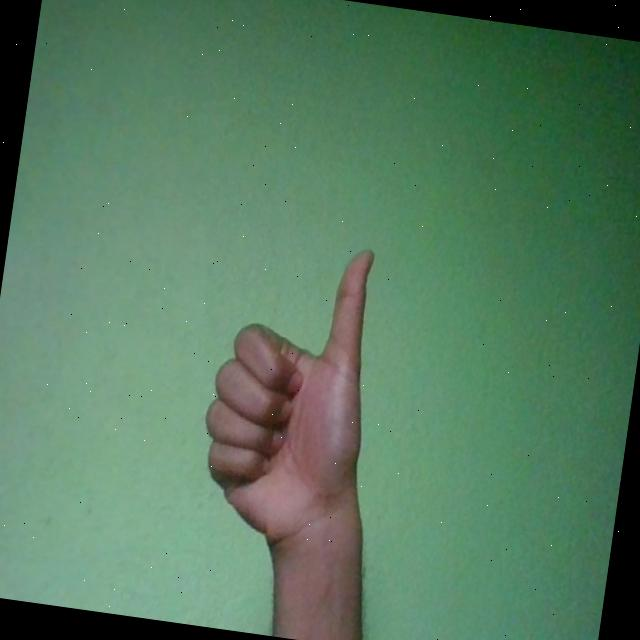Good Job: (187, 232, 388, 560)
